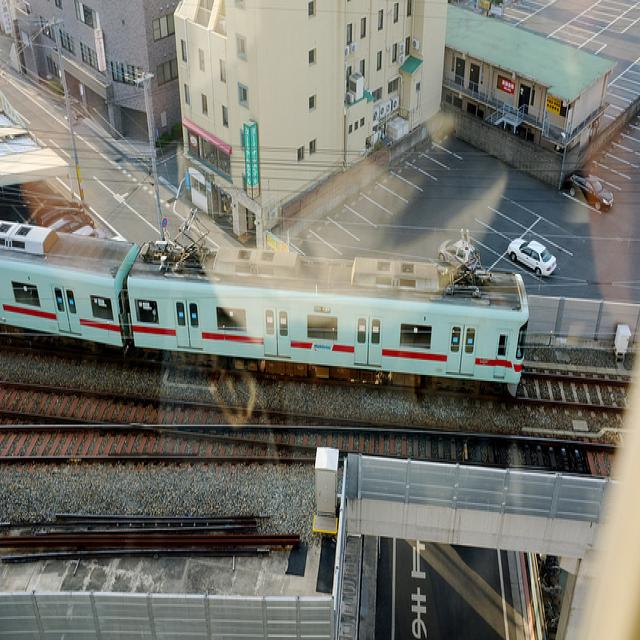Vehicle: (508, 236, 557, 279), (566, 168, 614, 210), (437, 239, 477, 262), (71, 223, 107, 240)
